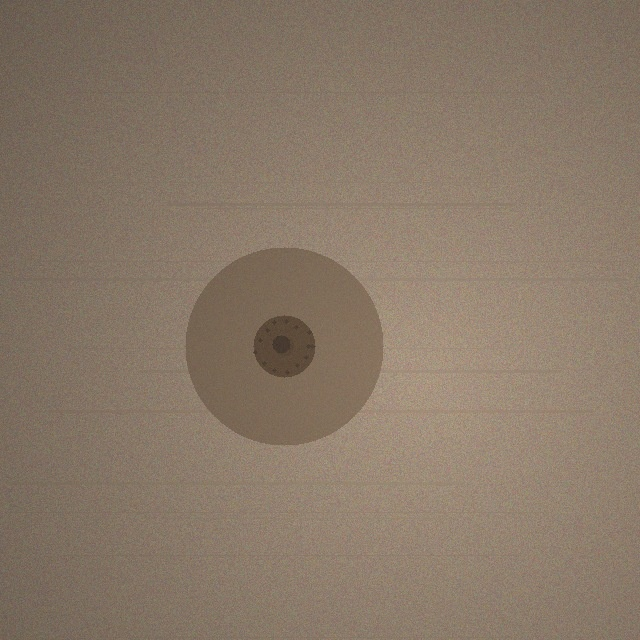cold_weld: (185, 247, 383, 445)
